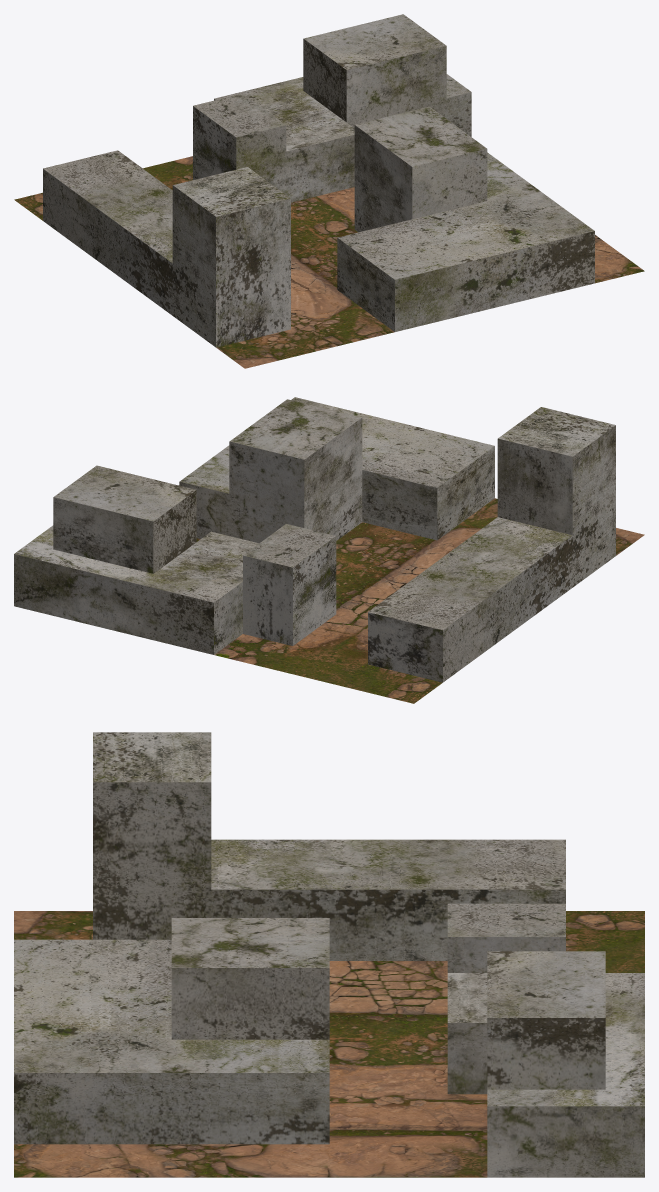
File: Maze1.fbx
3 views of the same model, one above another, from view 1: azimuth 30°, elevation 25°; view 2: azimuth 150°, elevation 25°; view 3: azimuth 270°, elevation 25° (orthographic). The views are drawn at different scales.
Parts seen in each view (by area): view 1: Maze2; view 2: Maze2; view 3: Maze2.
Part boxes in pixels (x1=…): Maze2: x1=14, y1=14, x2=644, y2=368; Maze2: x1=14, y1=397, x2=644, y2=703; Maze2: x1=14, y1=732, x2=644, y2=1177.
Size of the model in its own units: 1600 by 500 by 1600.
